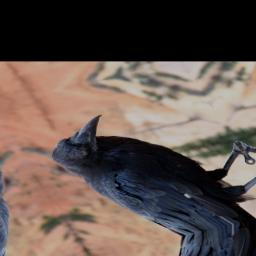Crow: (28, 91, 256, 252)
